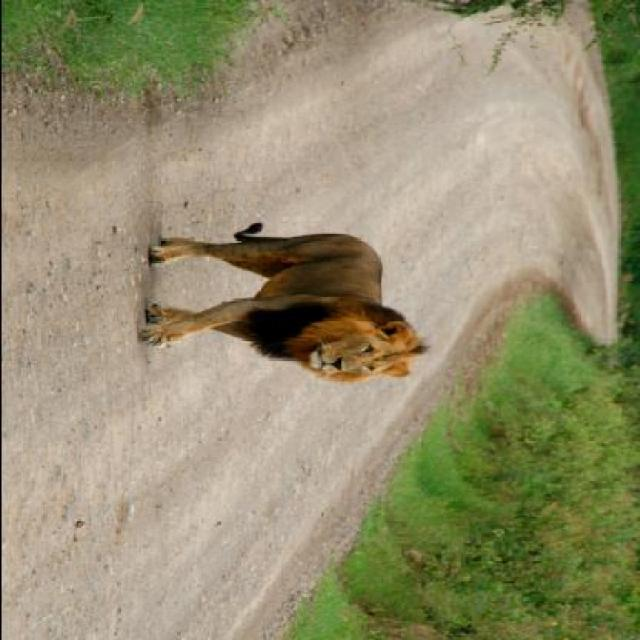Lion: (136, 212, 436, 388)
